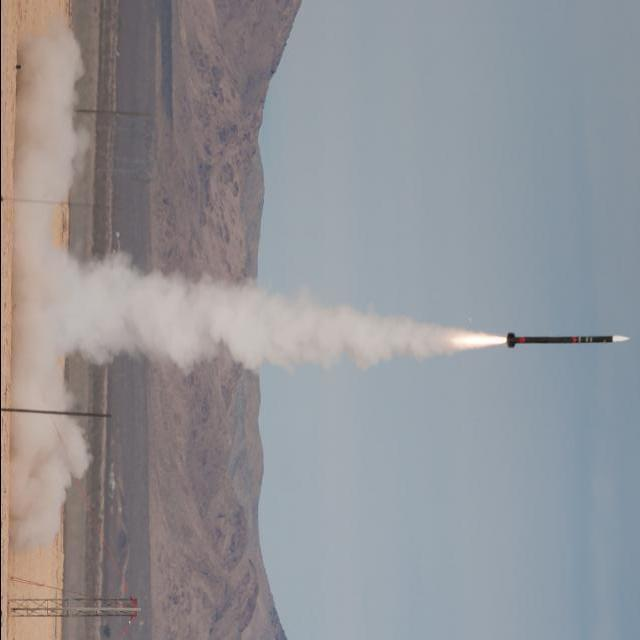missile: (502, 328, 637, 358)
